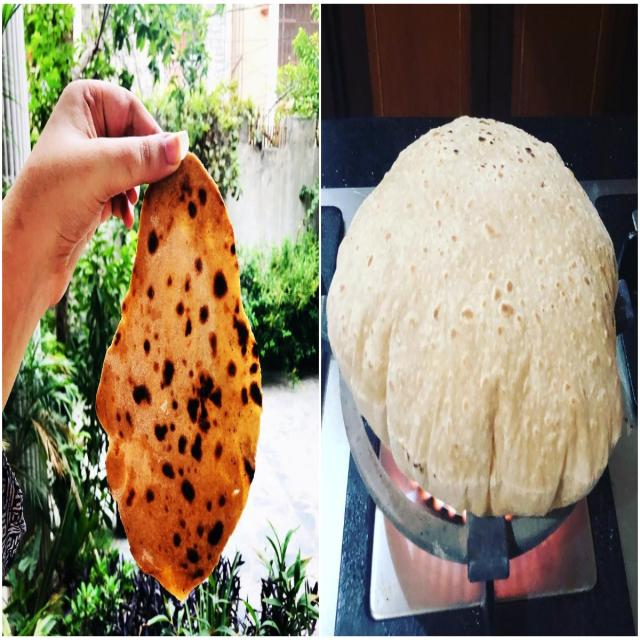ROTI: (326, 114, 624, 513), (96, 145, 262, 589)
